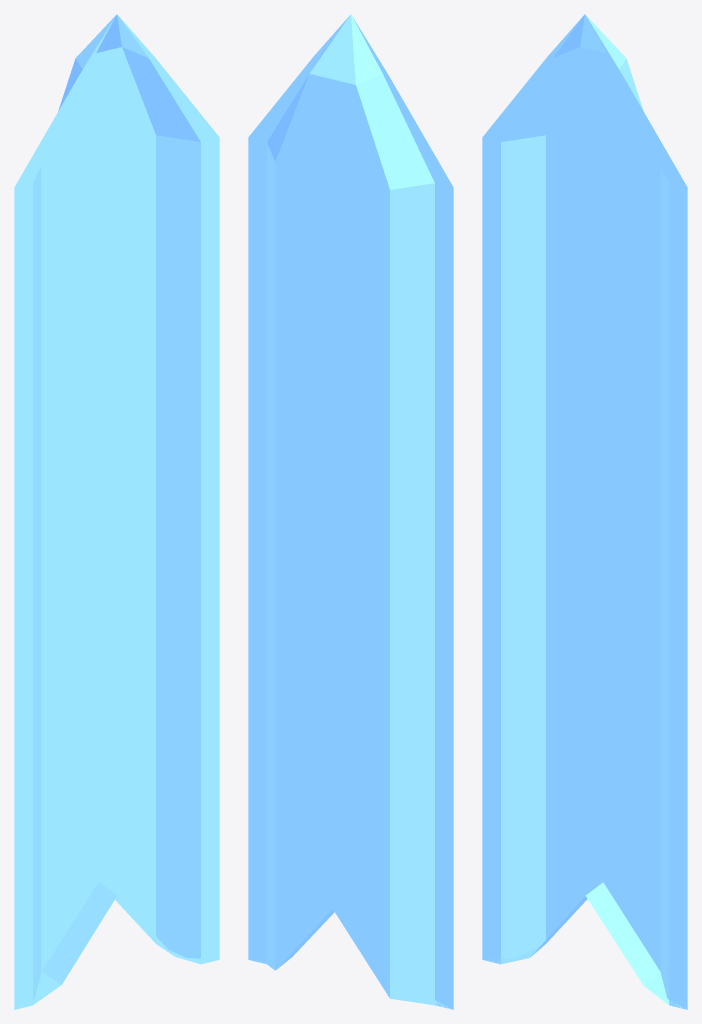
Rendered from SwordBeam.glb.
3 renders of one model, left to right at view 1: azimuth 30°, elevation 25°; view 2: azimuth 150°, elevation 25°; view 3: azimuth 330°, elevation 25°, orthographic.
Parts seen in each view (by area): view 1: SwordBeam; view 2: SwordBeam; view 3: SwordBeam.
Part boxes in pixels (x1,y1,x2,y2): SwordBeam: [14, 14, 219, 1009]; SwordBeam: [248, 14, 453, 1009]; SwordBeam: [482, 14, 687, 1009].
Bounding box in the file's own units: 0.0937 × 0.4228 × 0.0144.
